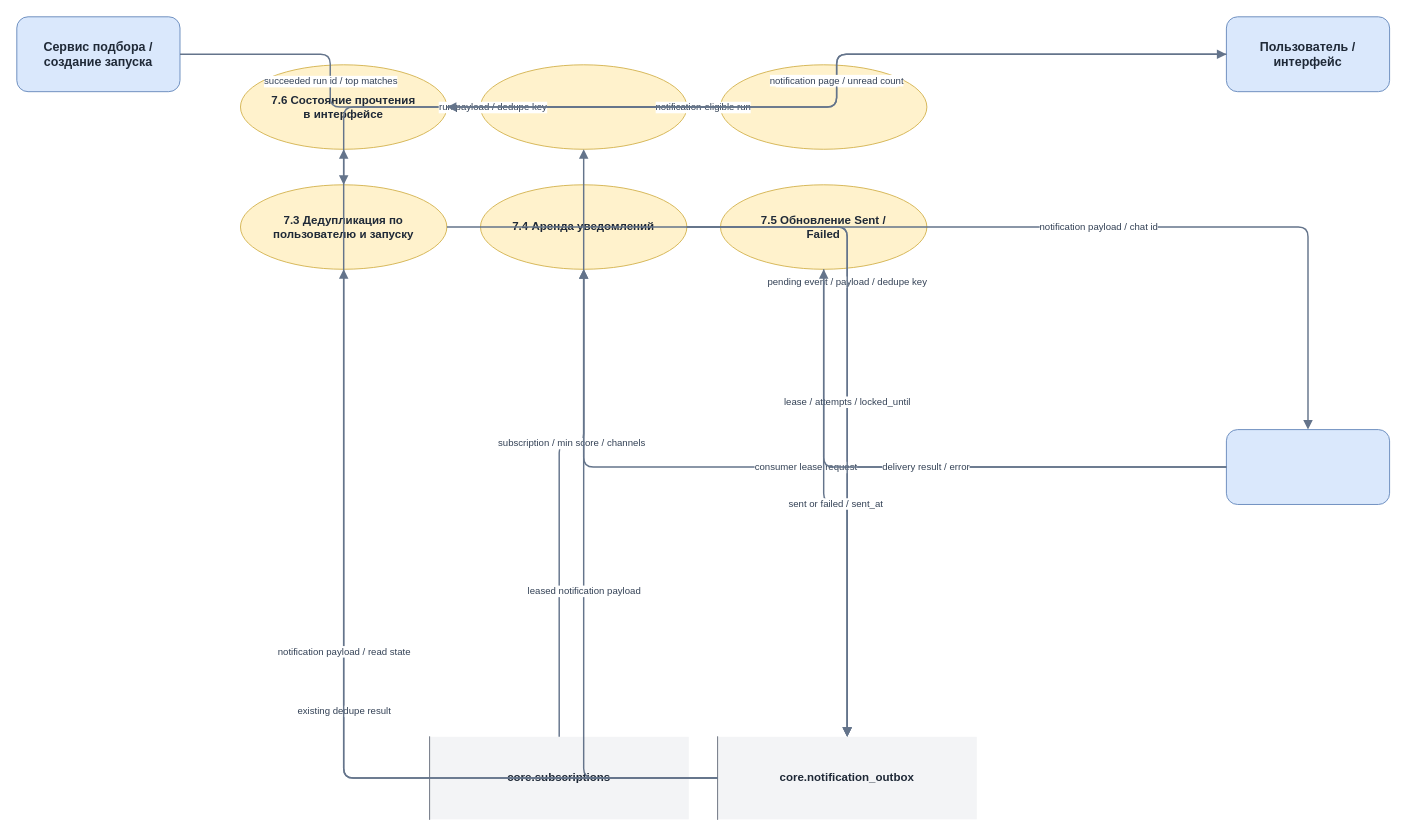
The diagram is 1406 pixels wide and 836 high, and some of its shapes have lost their labels. Each missing label, with the centre of its shape:
7.1 Проверка подписки: (583,106)
7.2 Создание события Outbox: (823,106)
Потребитель Telegram: (1307,466)
